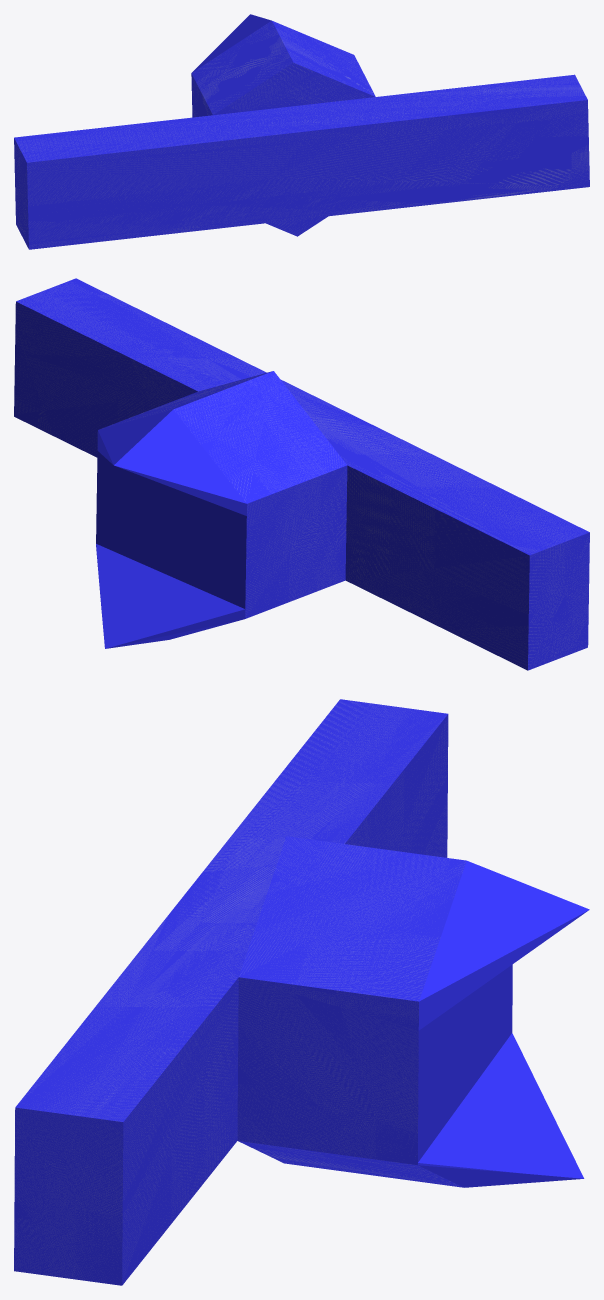
File: GasSac_Valve_Closed.obj
3 renders of one model, top to bottom at view 1: azimuth 30°, elevation 25°; view 2: azimuth 150°, elevation 25°; view 3: azimuth 270°, elevation 25°, orthographic. The views are drawn at different scales.
Parts seen in each view (by area): view 1: Mesh1 Model; view 2: Mesh1 Model; view 3: Mesh1 Model.
Part boxes in pixels (left/top/right/bottom): Mesh1 Model: left=14, top=14, right=589, bottom=249; Mesh1 Model: left=14, top=278, right=589, bottom=670; Mesh1 Model: left=14, top=699, right=589, bottom=1285.
Size of the model in its own units: 0.0278 by 0.00945 by 0.0152.
